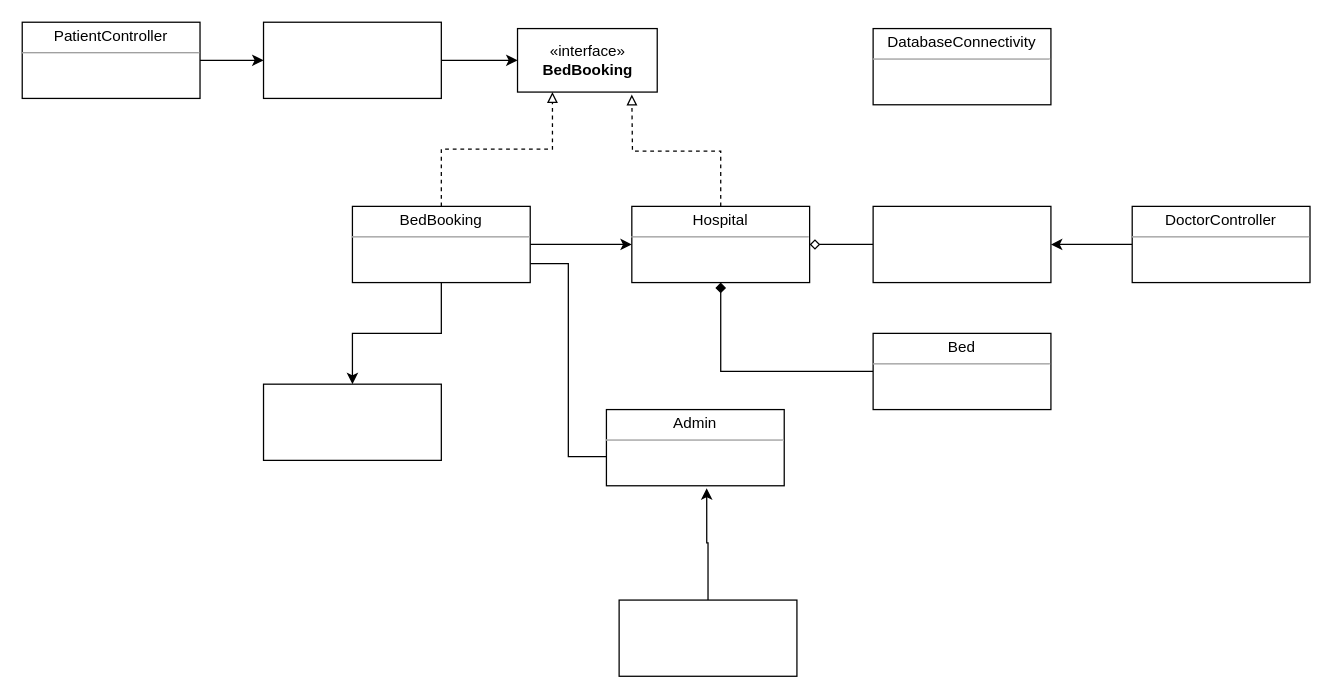
The diagram is 1332 pixels wide and 699 high, and some of its shapes have lost their labels. Each missing label, with the box of its shape:
AdminController: (618, 599, 797, 676)
Alert: (262, 383, 441, 460)
Doctor: (872, 205, 1051, 283)
Patient: (262, 21, 441, 98)
